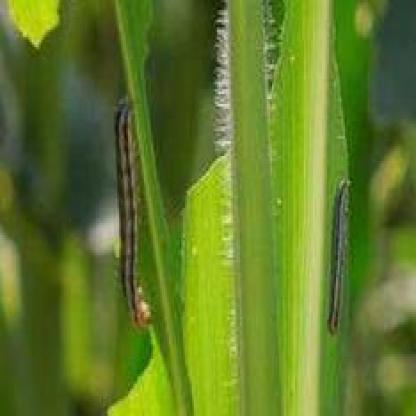armyworm: (113, 86, 152, 328), (327, 168, 356, 342)
